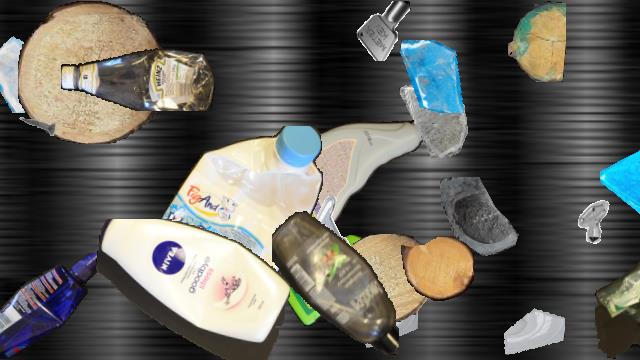glass: (437, 177, 531, 271), (0, 29, 75, 113), (397, 84, 471, 158), (397, 40, 469, 112), (159, 199, 221, 261), (503, 296, 565, 358), (361, 291, 417, 347), (600, 137, 640, 215)
metal: (305, 194, 367, 256), (355, 1, 415, 61), (567, 196, 615, 244), (16, 106, 56, 146)
plastic: (140, 126, 326, 332), (94, 219, 290, 359), (252, 114, 426, 242), (272, 209, 398, 359), (0, 253, 108, 359), (61, 43, 215, 111), (278, 234, 388, 326), (595, 249, 640, 359)
wood: (18, 1, 162, 143), (335, 234, 433, 322), (508, 1, 566, 81), (401, 237, 473, 301)
